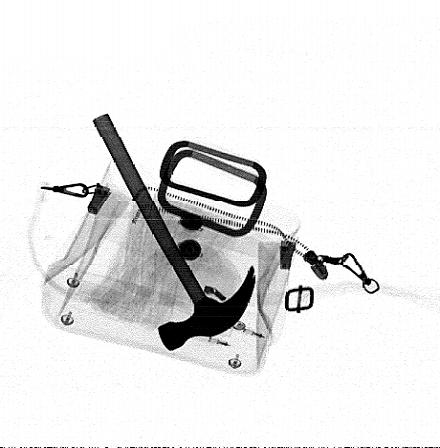Hammer: (92, 113, 257, 352)
